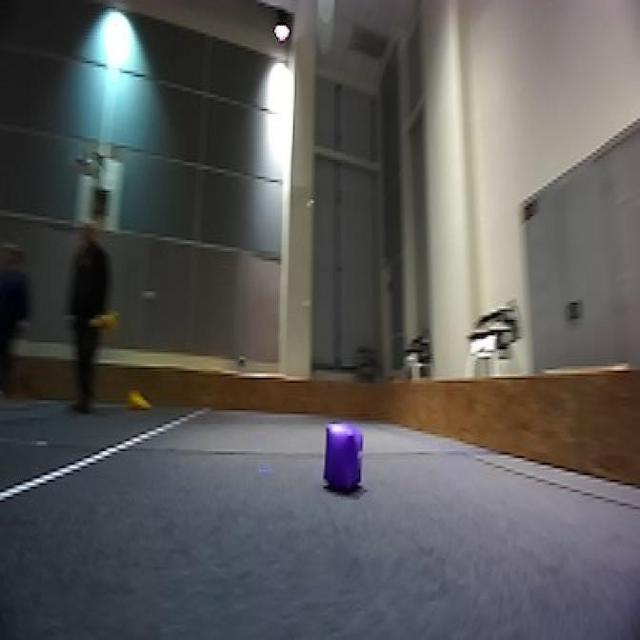frc_cone: (92, 306, 121, 339), (126, 386, 150, 414)
frc_cube: (322, 421, 365, 494)
